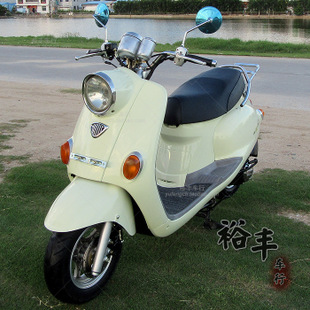motor: (28, 31, 271, 284)
